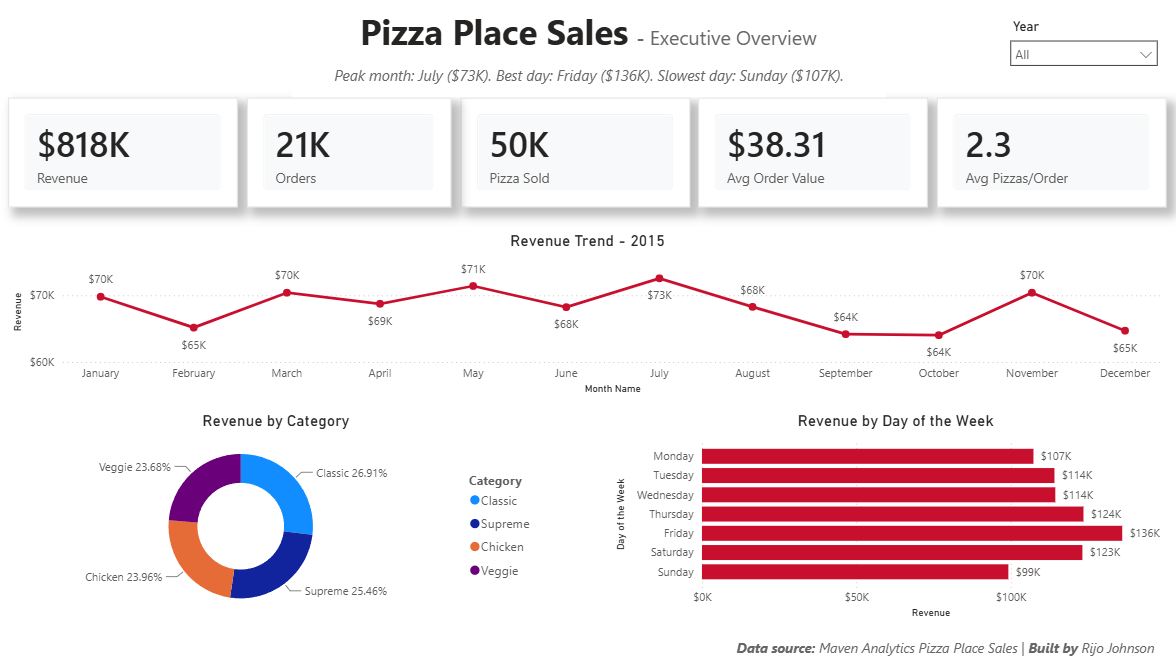

This screenshot's page, from the dashboard's own definition file:
{"tool":"powerbi","page":{"name":"Executive Overview","canvas":[1280,720],"ordinal":0},"visuals":[{"type":"textbox","box":[374.6,5.5,529.7,61.7],"z":0},{"type":"slicer","fields":{"Values":["DateTable.Year"]},"box":[1085.4,16.5,179.8,70],"z":1000},{"type":"cardVisual","title":"Total Revenue","fields":{"Data":["_Measures.Total Revenue"]},"box":[12.3,107,248.4,118],"z":2000},{"type":"cardVisual","fields":{"Data":["_Measures.Total Pizza Sold"]},"box":[500.9,107,248.4,118],"z":3000},{"type":"cardVisual","fields":{"Data":["_Measures.Total Orders"]},"box":[270.3,107,220.9,118],"z":4000},{"type":"cardVisual","fields":{"Data":["_Measures.Average Order Value"]},"box":[757.5,107,248.4,118],"z":5000},{"type":"cardVisual","fields":{"Data":["_Measures.Average Pizzas per Order"]},"box":[1016.8,107,248.4,118],"z":6000},{"type":"lineChart","title":"Revenue Trend - 2015","fields":{"Category":["DateTable.Month Name"],"Y":["_Measures.Revenue"]},"box":[12.3,251.1,1252.8,181.1],"z":7000},{"type":"donutChart","fields":{"Category":["pizza_types.Category"],"Y":["_Measures.Revenue"]},"box":[12.3,446,579.1,229.2],"z":8000},{"type":"clusteredBarChart","fields":{"Category":["DateTable.Day of the Week"],"Y":["_Measures.Revenue"]},"box":[664.2,446,616.1,229.2],"z":9000},{"type":"textbox","box":[318.4,65.9,642.2,39.8],"z":10000},{"type":"textbox","box":[784.9,686.1,480.3,34.3],"z":11000}]}

Visuals, with their boxes in screenshot pixels (x1, y1, x2, y2), scaled from the page's 1280x720 canvas onto the 1176x662 screenshot:
textbox: 344 5 831 62
slicer - DateTable.Year: 997 15 1162 80
"Total Revenue" cardVisual: 11 98 240 207
cardVisual - _Measures.Total Pizza Sold: 460 98 688 207
cardVisual - _Measures.Total Orders: 248 98 451 207
cardVisual - _Measures.Average Order Value: 696 98 924 207
cardVisual - _Measures.Average Pizzas per Order: 934 98 1162 207
"Revenue Trend - 2015" lineChart: 11 231 1162 397
donutChart - pizza_types.Category x _Measures.Revenue: 11 410 543 621
clusteredBarChart - DateTable.Day of the Week x _Measures.Revenue: 610 410 1175 621
textbox: 293 61 883 97
textbox: 721 631 1162 661
